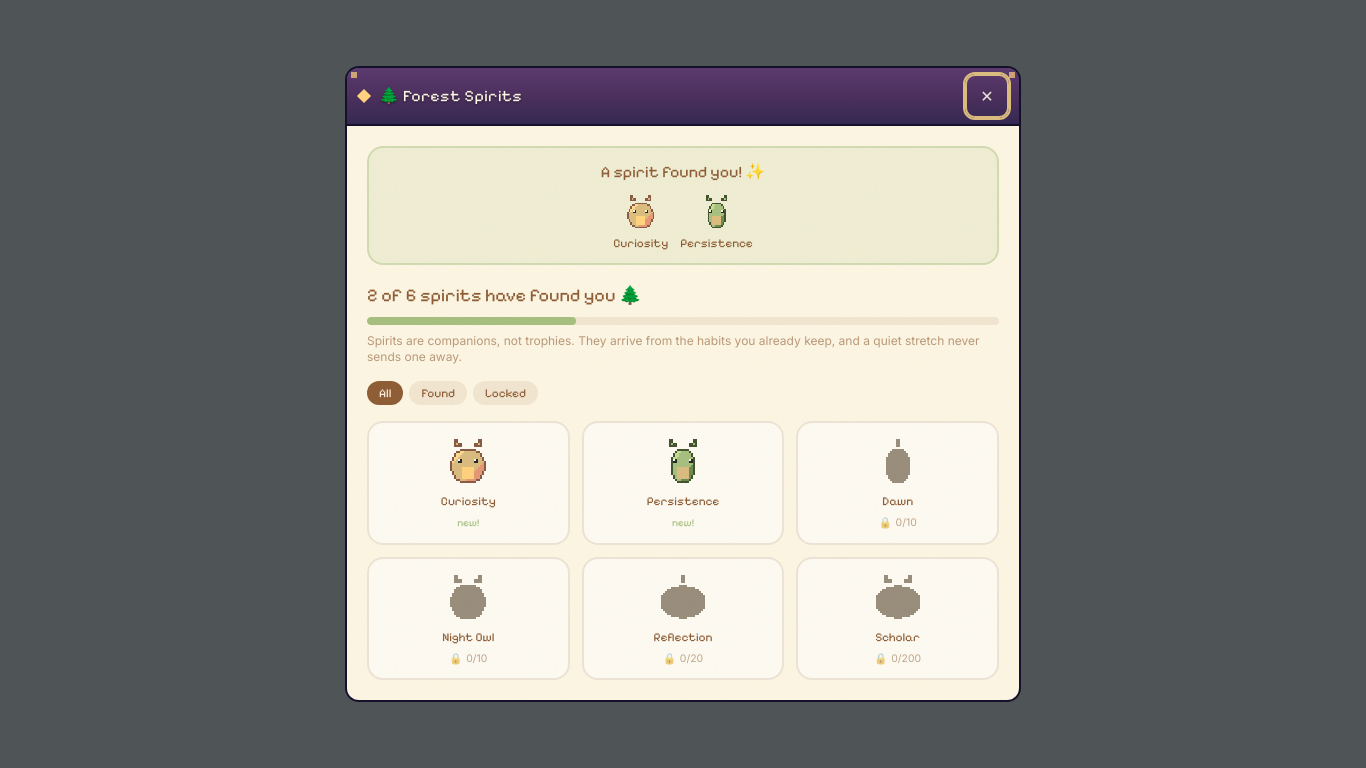
Test: ForestSpiritsModal › opens a locked spirit detail with its hint and live progress
Click the button with aria-label "Dawn, locked": (898, 483) x1=796 y1=421 x2=999 y2=544
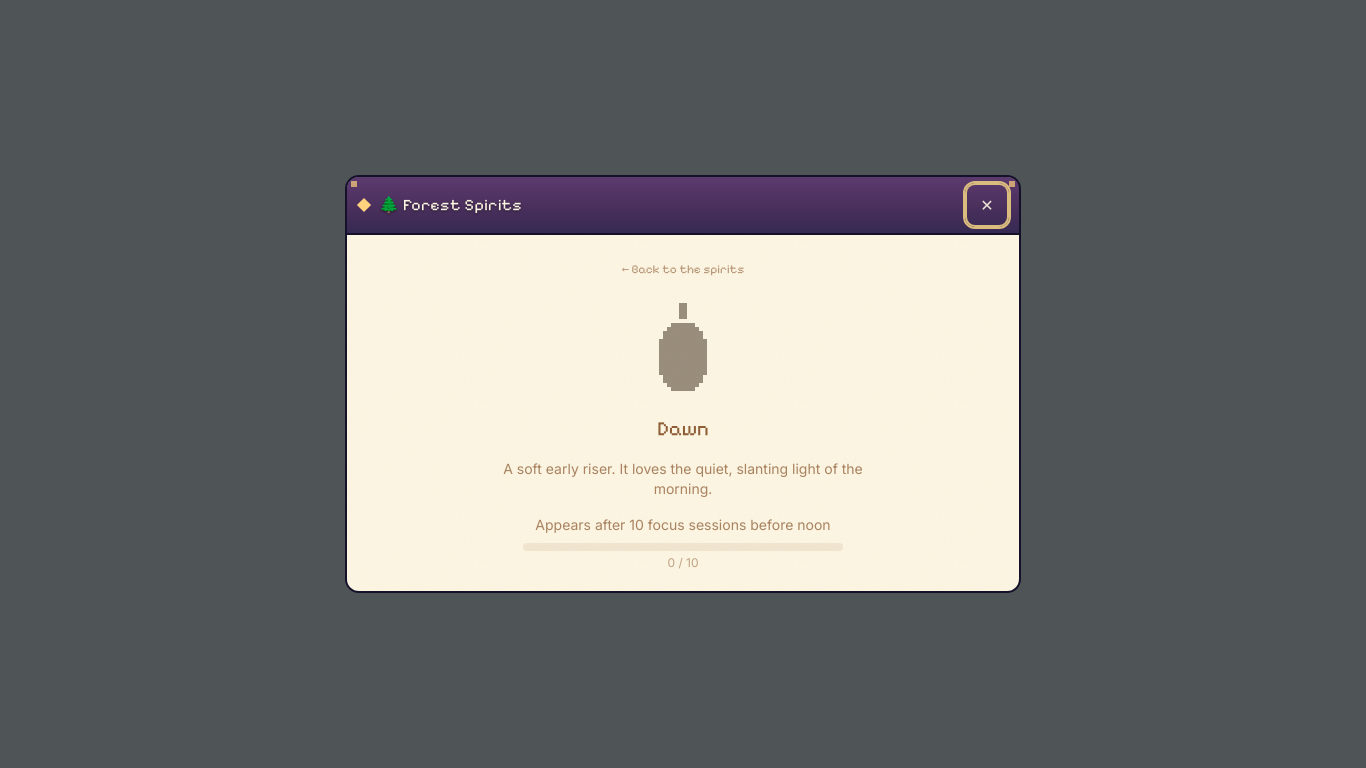
Expected: the button "← Back to the spirits" is shown, x1=622 y1=261 x2=744 y2=277
Expected: the text "Appears after 10 focus sessions before noon" is shown, x1=523 y1=515 x2=843 y2=535
Expected: the text "0 / 10" is shown, x1=667 y1=555 x2=698 y2=570
